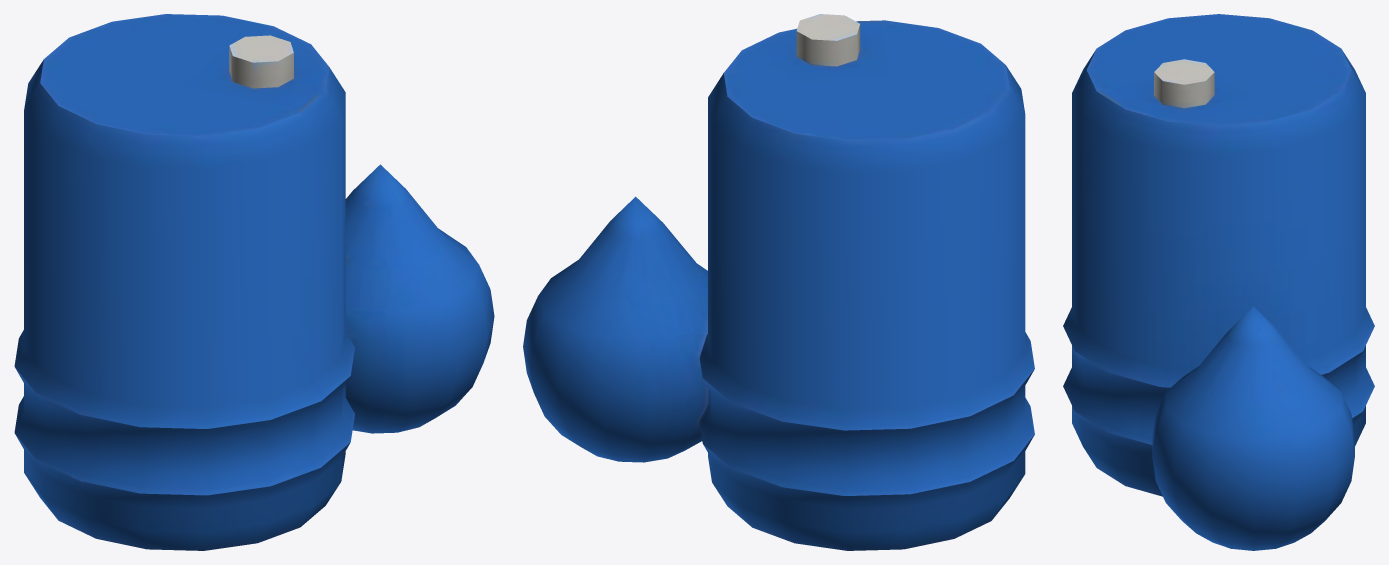
The model's file is water.glb.
3 renders of one model, left to right at view 1: azimuth 30°, elevation 25°; view 2: azimuth 150°, elevation 25°; view 3: azimuth 270°, elevation 25°, orthographic. The views are drawn at different scales.
Parts seen in each view (by area): view 1: te_res_water; view 2: te_res_water; view 3: te_res_water.
Boxes of the visible parts, x1,y1,x2,y2 form: te_res_water: (14,14,494,550); te_res_water: (523,14,1034,550); te_res_water: (1063,14,1374,550).
Bounding box in the file's own units: 0.5602 × 0.51 × 0.3604.
Materials: 1 (1 with a texture image).
